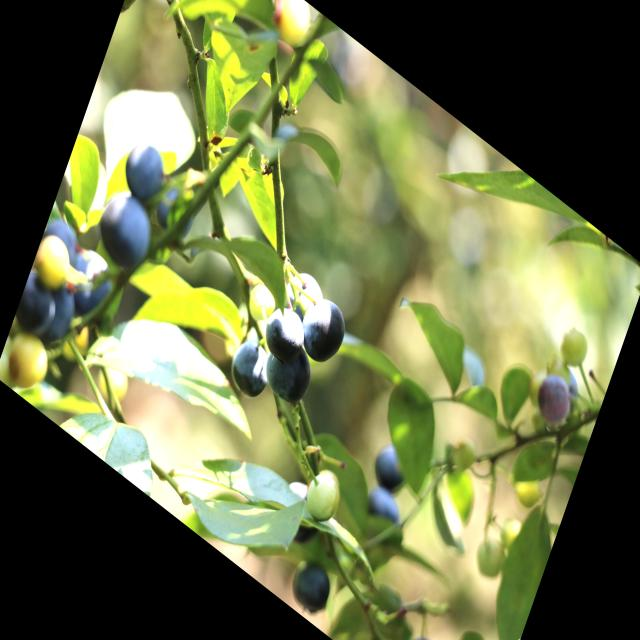blueberry: (90, 182, 158, 279), (293, 288, 357, 382), (254, 327, 320, 417), (115, 131, 178, 218), (221, 326, 279, 410), (63, 247, 119, 326), (33, 211, 86, 294), (364, 428, 418, 506), (259, 296, 313, 372), (12, 271, 64, 348), (530, 364, 582, 441), (284, 548, 337, 623), (280, 260, 328, 331), (360, 476, 410, 537), (405, 627, 447, 640)
blueberry-unripe: (268, 0, 318, 56), (300, 466, 342, 530)
